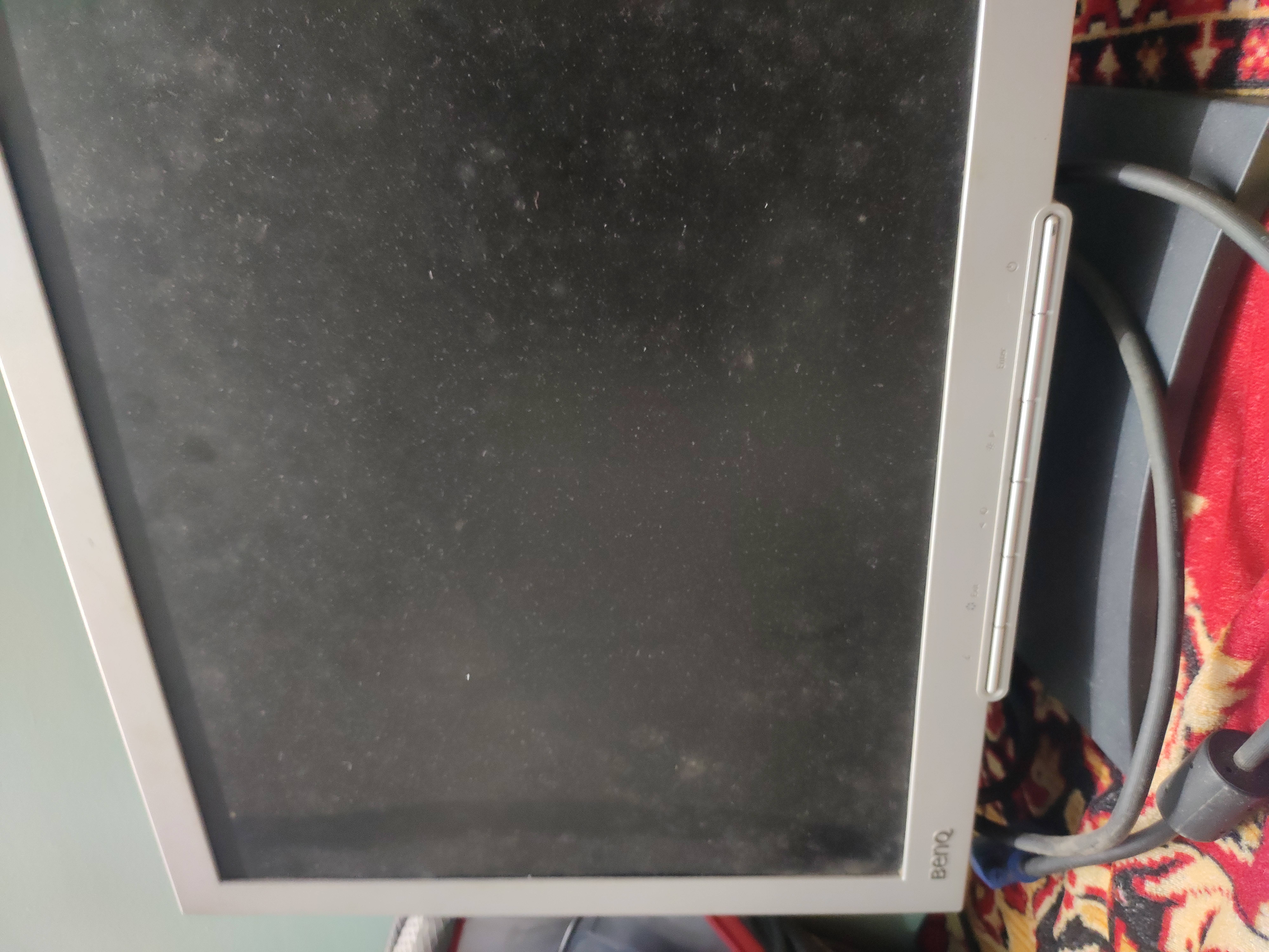Electronics: (5, 1, 1269, 930)
